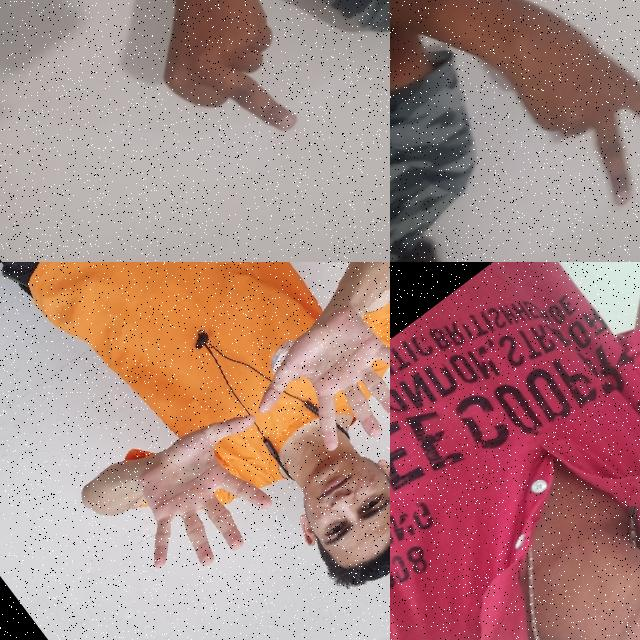Fist Mouth: (481, 371, 640, 640)
Middle Finger: (111, 0, 369, 184)
Moutza: (88, 383, 322, 610), (224, 268, 390, 493)
Reversed Victory: (455, 0, 640, 225)
